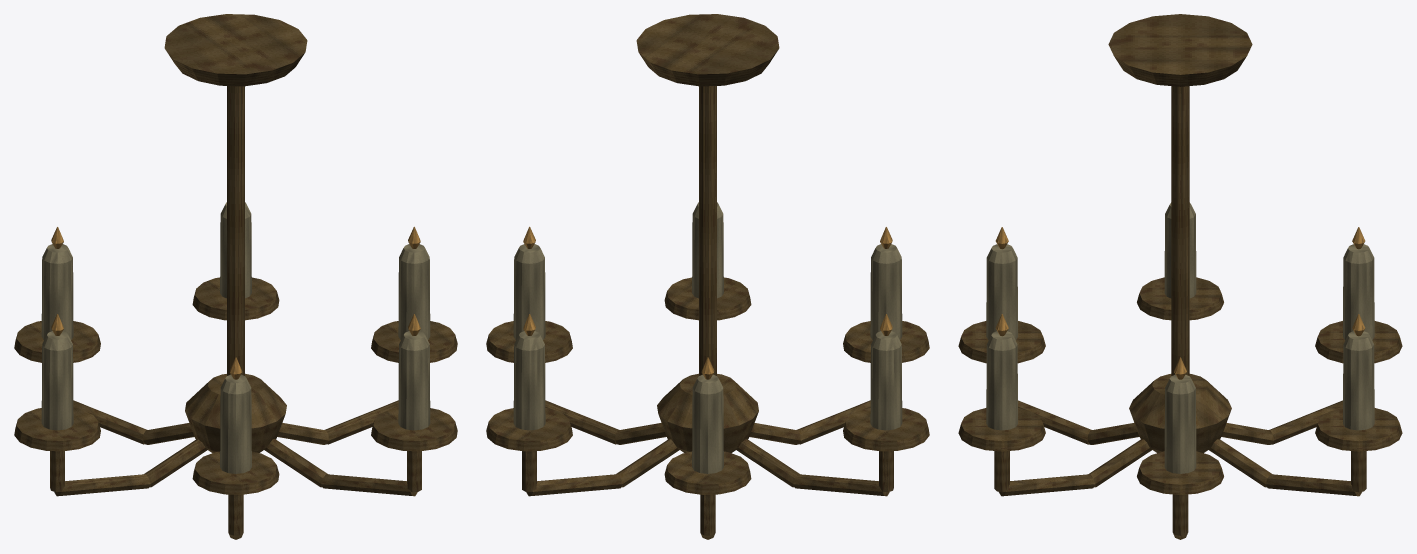
The model's file is level_light_candle_chandelier_worn.glb.
3 renders of one model, left to right at view 1: azimuth 30°, elevation 25°; view 2: azimuth 150°, elevation 25°; view 3: azimuth 270°, elevation 25°, orthographic.
Parts seen in each view (by area): view 1: level_light_candle_chandelier_worn; view 2: level_light_candle_chandelier_worn; view 3: level_light_candle_chandelier_worn.
Boxes of the visible parts, bbox=[...] form: level_light_candle_chandelier_worn: bbox=[14, 14, 457, 539]; level_light_candle_chandelier_worn: bbox=[486, 14, 929, 539]; level_light_candle_chandelier_worn: bbox=[958, 14, 1402, 539].
Size of the model in its own units: 0.97 by 0.9048 by 0.8628.
Materials: 4 (4 with a texture image).
